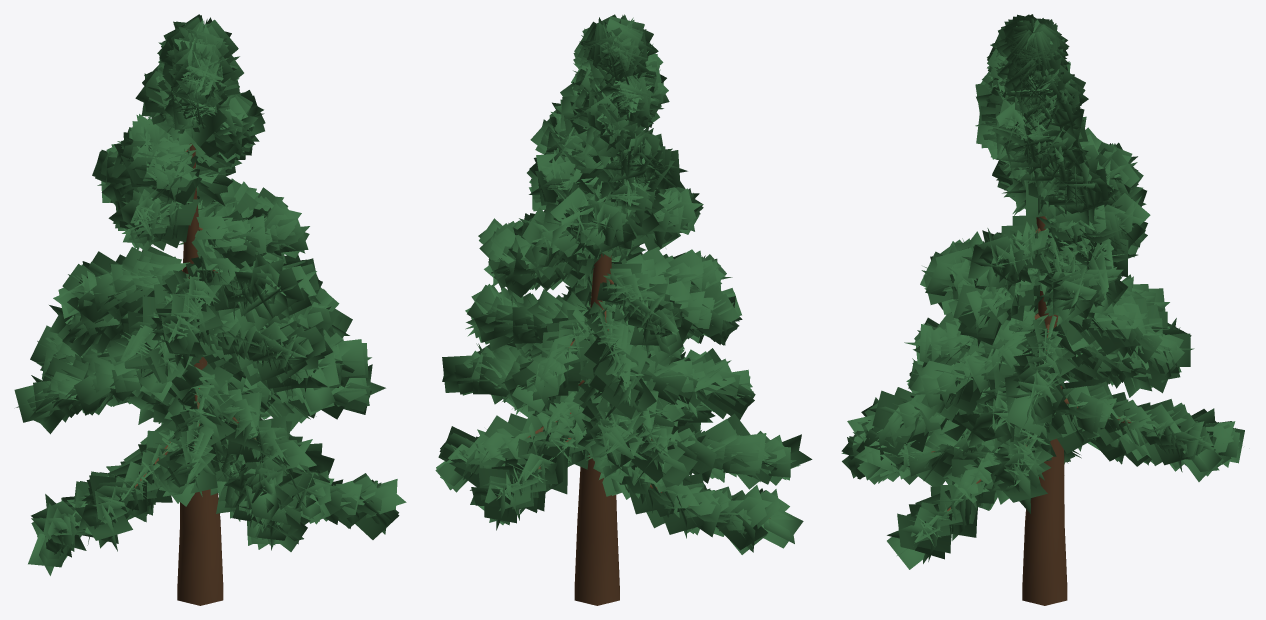
The model's file is ez_pine_wind_variant_pbr.glb.
3 renders of one model, left to right at view 1: azimuth 30°, elevation 25°; view 2: azimuth 150°, elevation 25°; view 3: azimuth 270°, elevation 25°, orthographic.
Visible parts, largest first — view 1: Tree; view 2: Tree; view 3: Tree.
Boxes of the visible parts, <box> form: Tree: <box>14,14,406,605</box>; Tree: <box>435,14,812,605</box>; Tree: <box>841,14,1244,605</box>.
Size of the model in its own units: 16.22 by 25.34 by 16.48.
